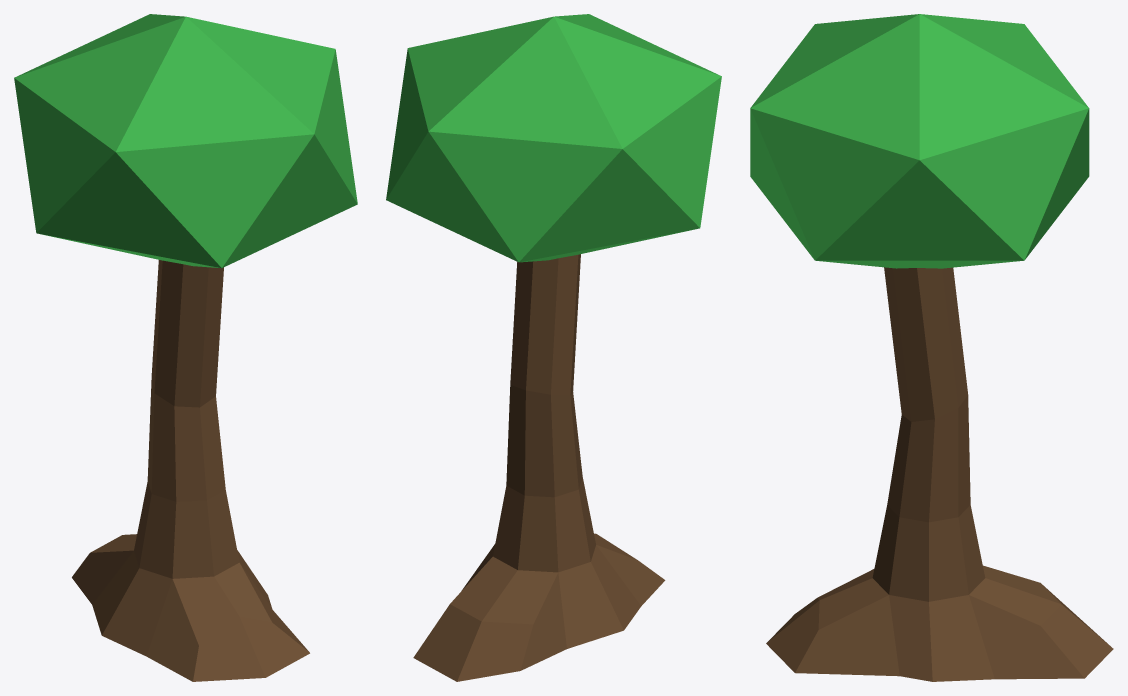
The model's file is Tree8.fbx.
The picture shows the model from 3 angles, left to right: view 1: azimuth 30°, elevation 25°; view 2: azimuth 150°, elevation 25°; view 3: azimuth 270°, elevation 25°; orthographic projection. The views are drawn at different scales.
Parts seen in each view (by area): view 1: Cylinder.007; view 2: Cylinder.007; view 3: Cylinder.007.
Part boxes in pixels (left/top/right/bottom): Cylinder.007: left=14, top=14, right=357, bottom=681; Cylinder.007: left=386, top=14, right=721, bottom=681; Cylinder.007: left=750, top=14, right=1113, bottom=681.
Size of the model in its own units: 125 by 245 by 127.
